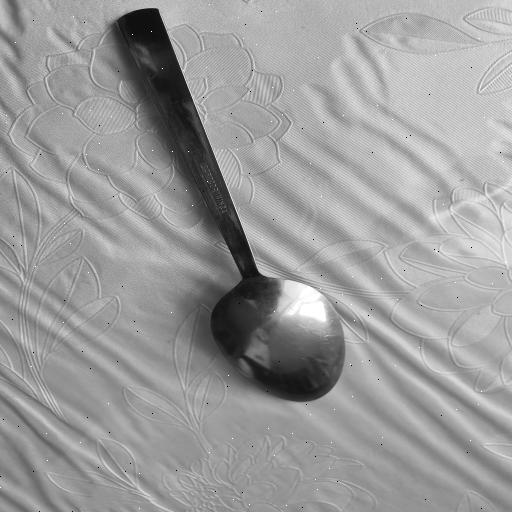spoon: (122, 2, 344, 403)
